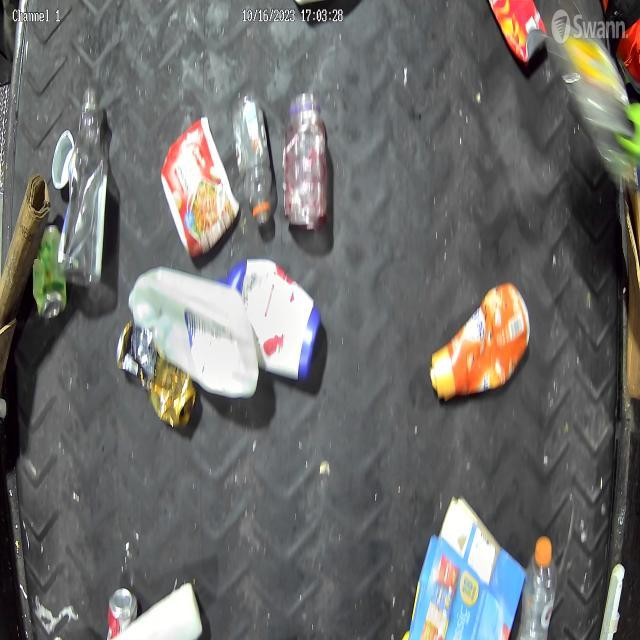milk_jug: (126, 264, 257, 396)
plastic_bottle: (58, 88, 108, 286), (230, 97, 276, 222)
